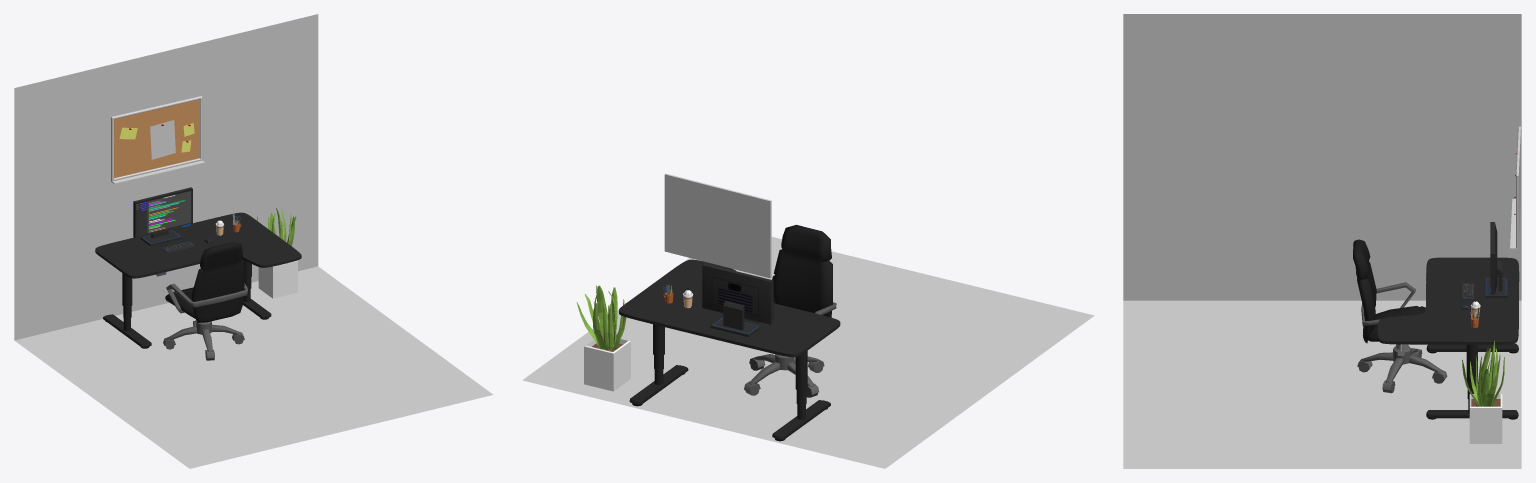
File: newOffice.gltf
3 views of the same model, side by side, from view 1: azimuth 30°, elevation 25°; view 2: azimuth 150°, elevation 25°; view 3: azimuth 270°, elevation 25° (orthographic). The views are drawn at different scales.
Parts seen in each view (by area): view 1: Plane, Message_Board, Plane.001_Plane.002, Computer Chair, MonitorScreen, group1885116500, Monitor, Cube_Cube.001; view 2: Plane, Message_Board, Plane.001_Plane.002, Computer Chair, Monitor, group1885116500, Cube.006_Cube.007, Cube_Cube.001; view 3: Plane, Plane.001_Plane.002, Computer Chair, group1885116500, Monitor, Message_Board, Cube_Cube.001, Cube.006_Cube.007, Cylinder.010.
Part boxes in pixels (x1,y1,x2,y2): Plane: (14,14,493,468); Message_Board: (111,96,204,184); Plane.001_Plane.002: (95,212,301,278); Computer Chair: (163,242,247,360); MonitorScreen: (136,191,191,235); group1885116500: (258,260,297,298); Monitor: (133,187,192,246); Cube_Cube.001: (103,314,151,347); Plane: (522,237,1094,468); Message_Board: (664,173,774,278); Plane.001_Plane.002: (619,259,840,357); Computer Chair: (744,224,836,397); Monitor: (702,263,773,337); group1885116500: (584,338,630,391); Cube.006_Cube.007: (629,365,688,404); Cube_Cube.001: (772,400,830,439); Plane: (1123,14,1521,468); Plane.001_Plane.002: (1377,257,1519,344); Computer Chair: (1353,239,1447,393); group1885116500: (1469,394,1502,443); Monitor: (1485,222,1507,297); Message_Board: (1510,126,1520,249); Cube_Cube.001: (1426,343,1518,351); Cube.006_Cube.007: (1426,410,1518,418); Cylinder.010: (1466,344,1477,386).
Bounding box in the file's own units: 4 × 3.17 × 4.
Materials: 17 (5 with a texture image).
